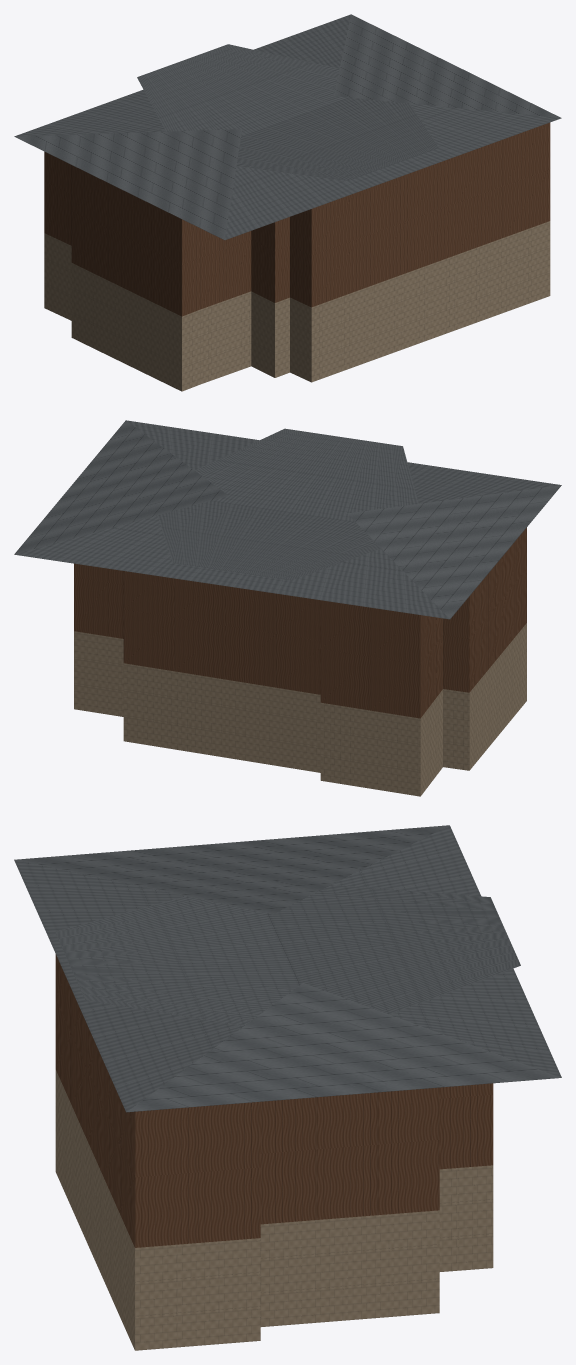
Rendered from bld_c3_-7_597.gltf.
3 renders of one model, top to bottom at view 1: azimuth 30°, elevation 25°; view 2: azimuth 150°, elevation 25°; view 3: azimuth 270°, elevation 25°, orthographic. The views are drawn at different scales.
Visible parts, largest first — view 1: bld_c3_-7_597; view 2: bld_c3_-7_597; view 3: bld_c3_-7_597.
Part boxes in pixels (box(x1,y1,x2,y2)): bld_c3_-7_597: box(14, 14, 561, 391); bld_c3_-7_597: box(14, 420, 561, 796); bld_c3_-7_597: box(14, 825, 561, 1350).
Bounding box in the file's own units: 30.56 × 13.1 × 24.64.
3 materials, 3 textured.
